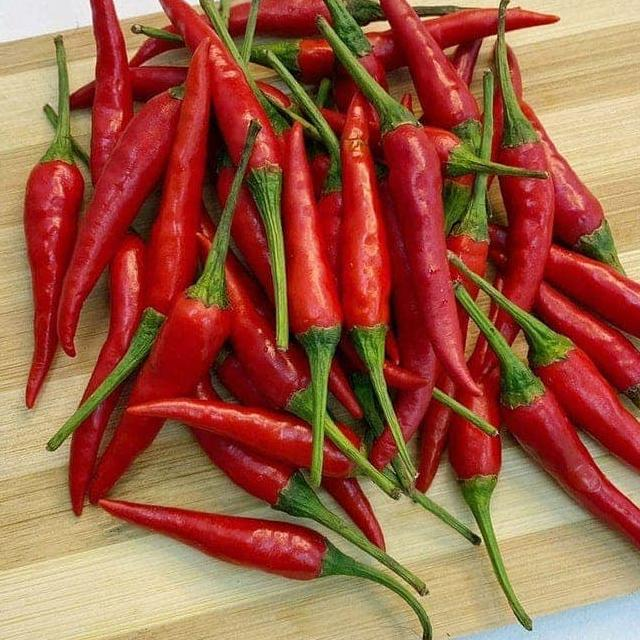chili_pepper: (89, 122, 257, 504), (319, 18, 481, 396), (458, 290, 640, 550), (160, 0, 290, 348), (453, 258, 640, 471), (57, 88, 182, 356), (339, 94, 412, 478), (23, 35, 84, 408), (546, 246, 640, 339), (493, 226, 508, 262)
